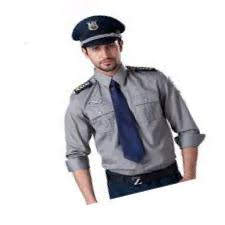uniform: (59, 15, 200, 201)
